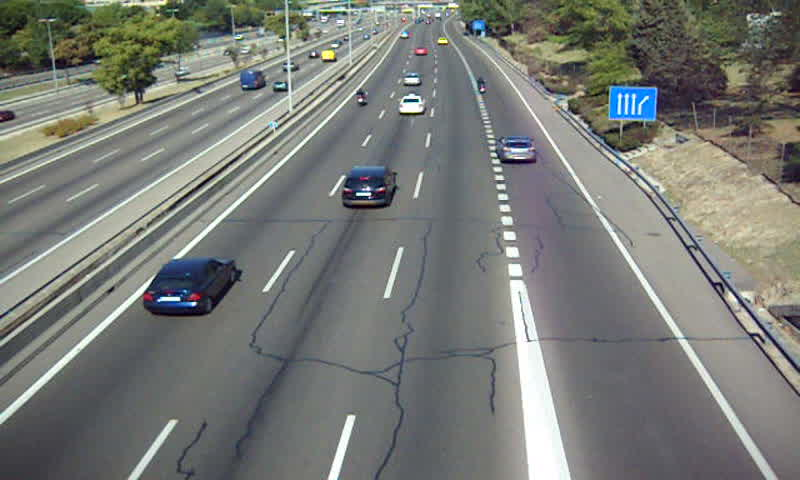car: (144, 255, 236, 315), (341, 166, 397, 206), (494, 134, 537, 164), (398, 94, 426, 115), (402, 72, 421, 86)
motorcycle: (356, 88, 370, 110), (476, 77, 487, 95)
